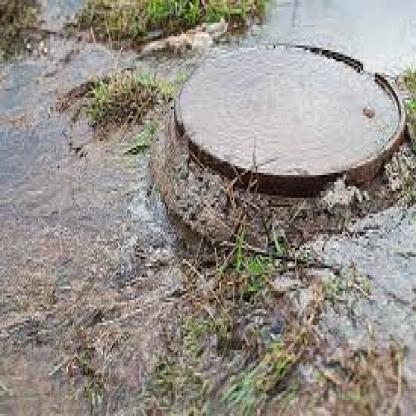drainage overflow-repair-: (36, 2, 404, 280)
